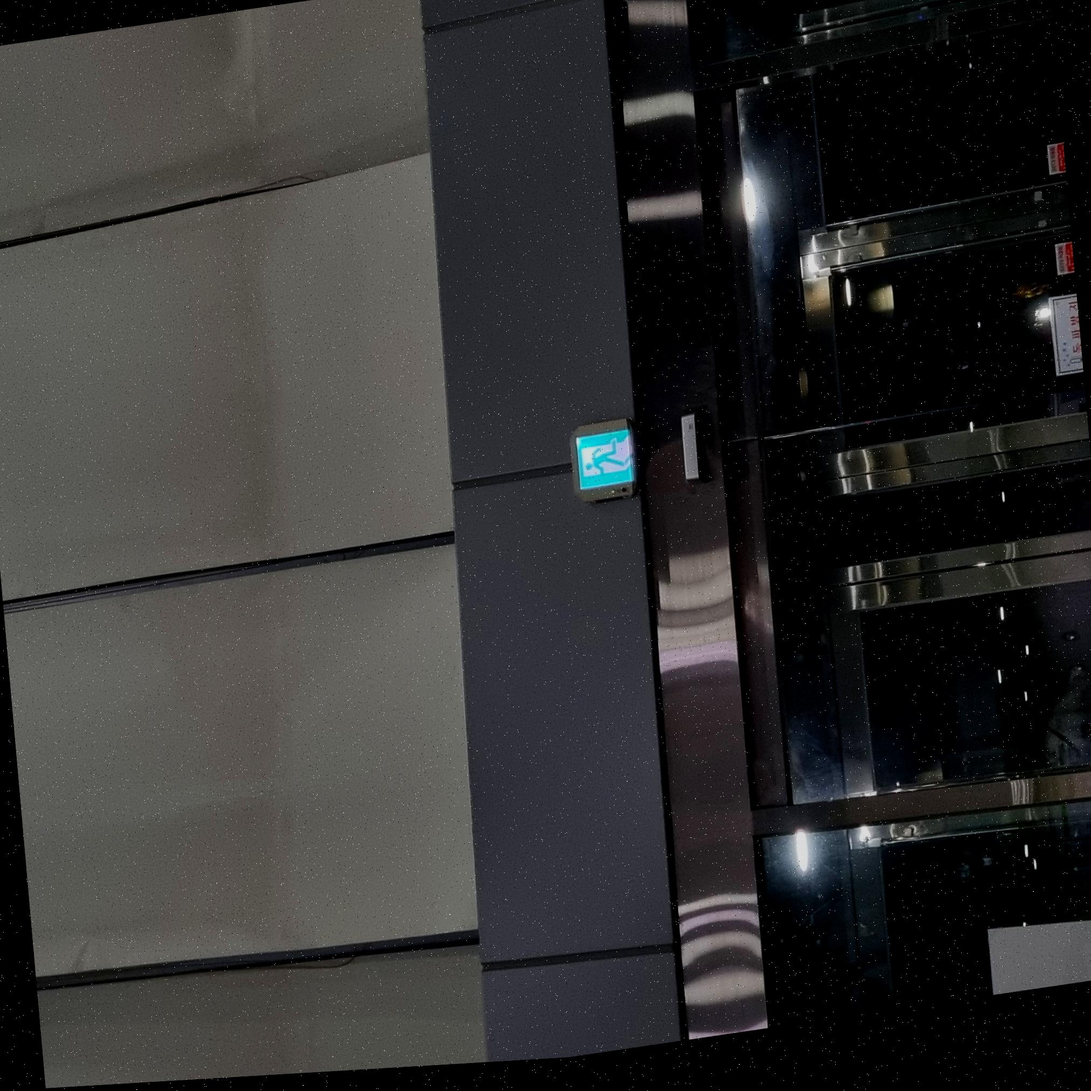emergency_exit: (569, 417, 639, 501)
